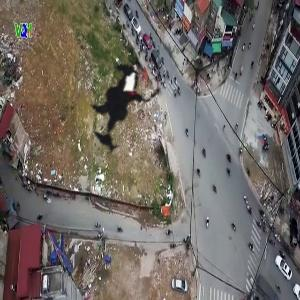drone: (56, 41, 197, 182)
